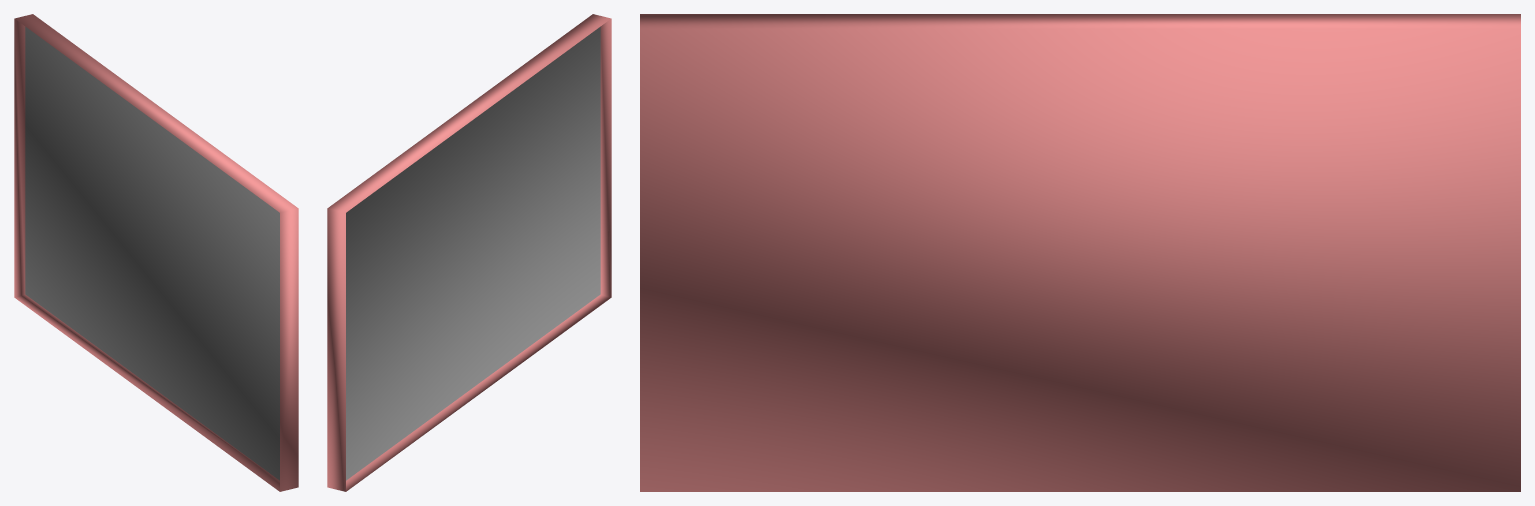
The model's file is whiteboard.gltf.
3 renders of one model, left to right at view 1: azimuth 30°, elevation 25°; view 2: azimuth 150°, elevation 25°; view 3: azimuth 270°, elevation 25°, orthographic. The views are drawn at different scales.
Visible parts, largest first — view 1: whiteboard; view 2: whiteboard; view 3: whiteboard.
Boxes of the visible parts, box(x1,y1,x2,y2) form: whiteboard: box(14, 14, 298, 491); whiteboard: box(327, 14, 611, 491); whiteboard: box(640, 14, 1520, 491).
Size of the model in its own units: 0.1613 by 2.32 by 4.01.
